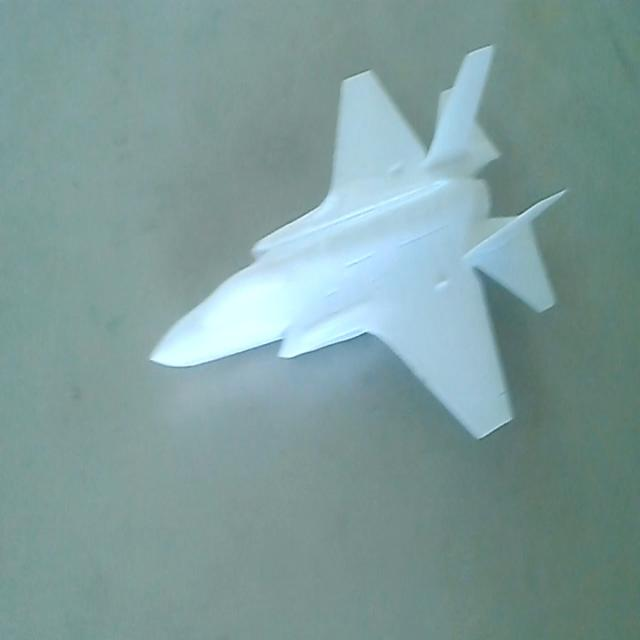Jet: (142, 38, 572, 455)
